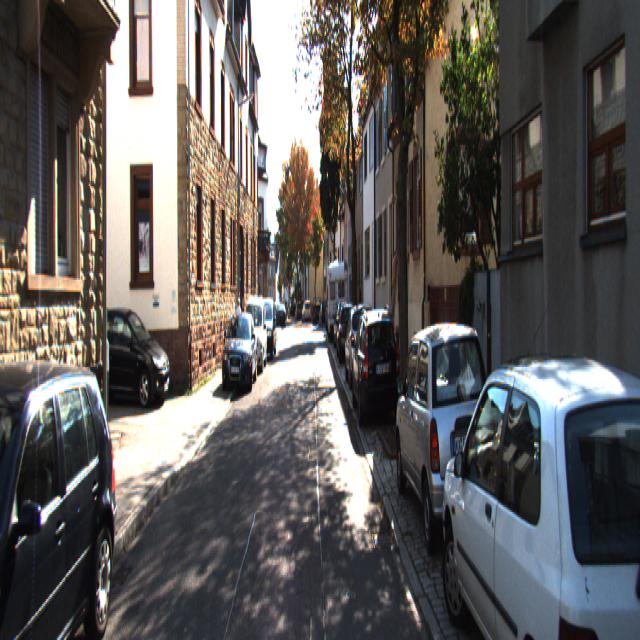Car: (435, 333, 639, 638), (0, 350, 126, 638), (392, 316, 503, 560), (84, 310, 172, 414), (350, 302, 403, 432), (221, 308, 258, 393), (344, 300, 378, 392), (240, 294, 268, 374), (326, 256, 349, 340), (256, 298, 278, 362), (275, 305, 287, 330)
